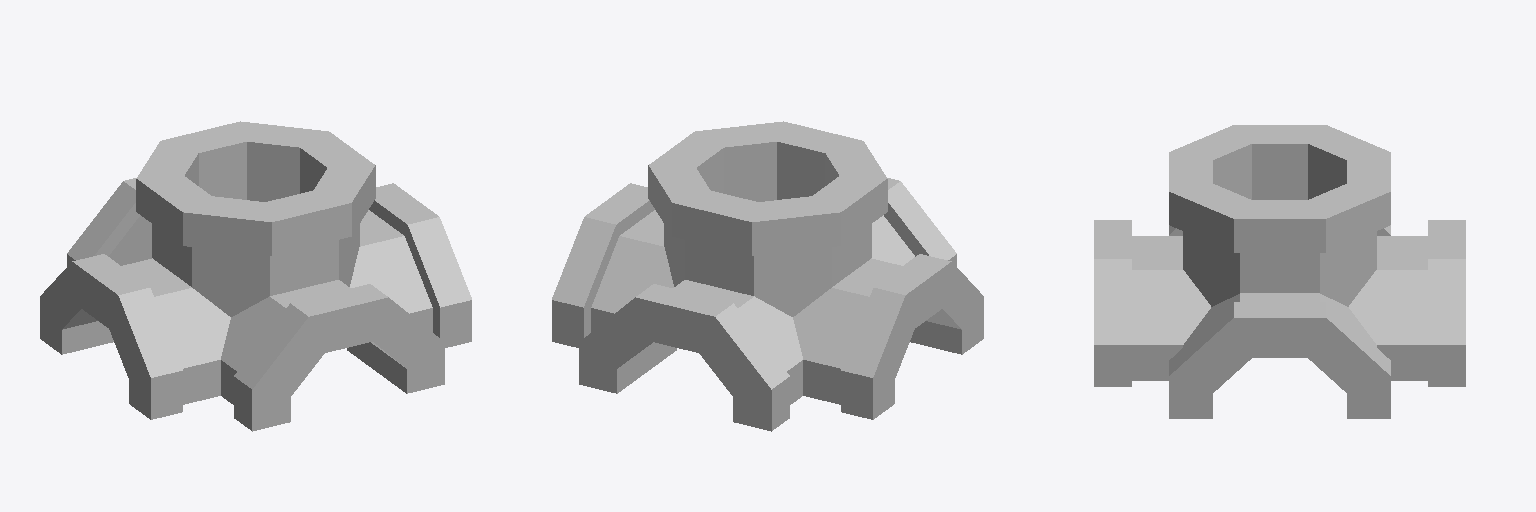
Rendered from Upgraded Drain Pipe - Cross.obj.obj.
3 views of the same model, side by side, from view 1: azimuth 30°, elevation 25°; view 2: azimuth 150°, elevation 25°; view 3: azimuth 270°, elevation 25° (orthographic).
Parts seen in each view (by area): view 1: Upgraded_Drain_Pipe_-_Cross; view 2: Upgraded_Drain_Pipe_-_Cross; view 3: Upgraded_Drain_Pipe_-_Cross.
Part boxes in pixels (x1,y1,x2,y2): Upgraded_Drain_Pipe_-_Cross: (40,121,471,431); Upgraded_Drain_Pipe_-_Cross: (552,121,983,431); Upgraded_Drain_Pipe_-_Cross: (1094,125,1465,418).
Size of the model in its own units: 1 by 0.5 by 1.